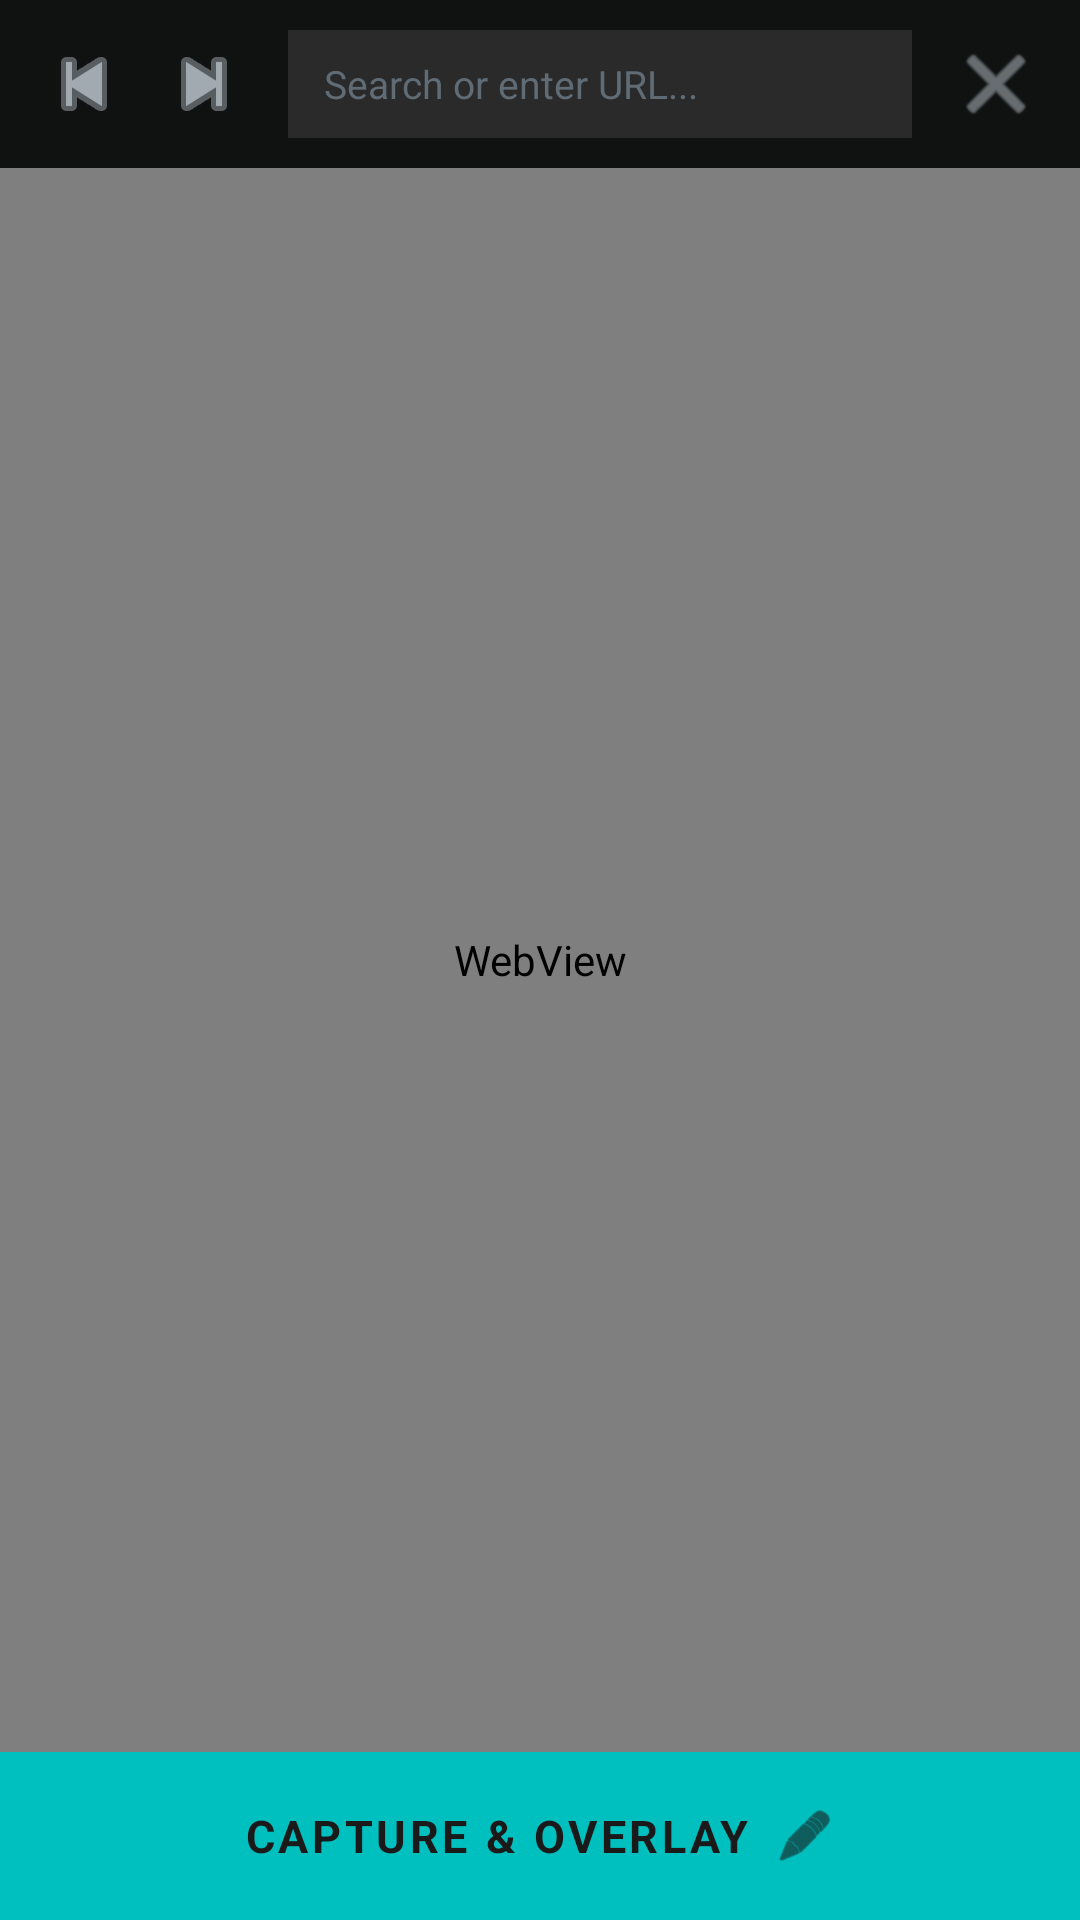

Screen size 1080 x 1920. Icon name, then its box in pixels as (x1, y1, x2, y2):
close clear cancel: (966, 54, 1026, 114)
edit: (779, 1810, 830, 1861)
next: (181, 57, 227, 111)
previous: (61, 57, 107, 111)
